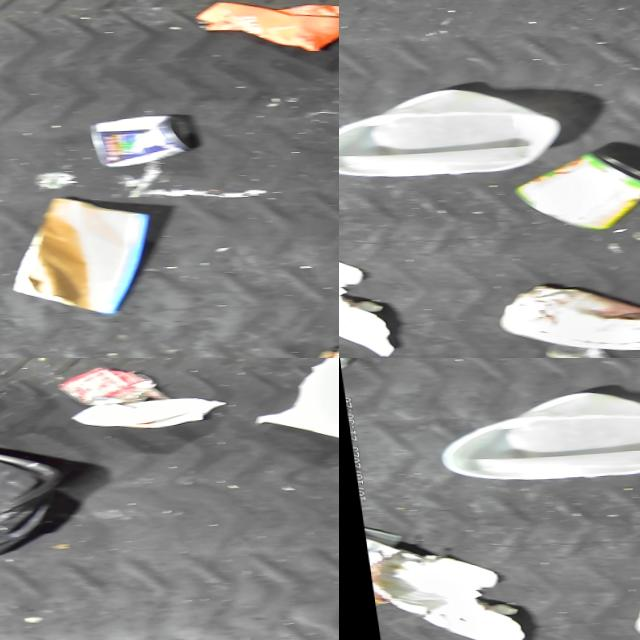can: (497, 147, 640, 234), (79, 112, 195, 168)
milk_jug: (339, 84, 557, 180), (422, 387, 640, 483)
non_white_jug: (0, 443, 69, 564)
plastic_bottle: (521, 341, 617, 358)
